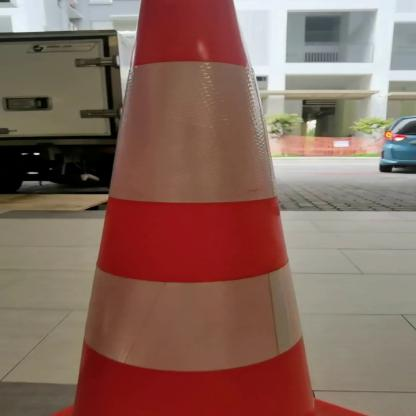cone: (46, 2, 376, 416)
